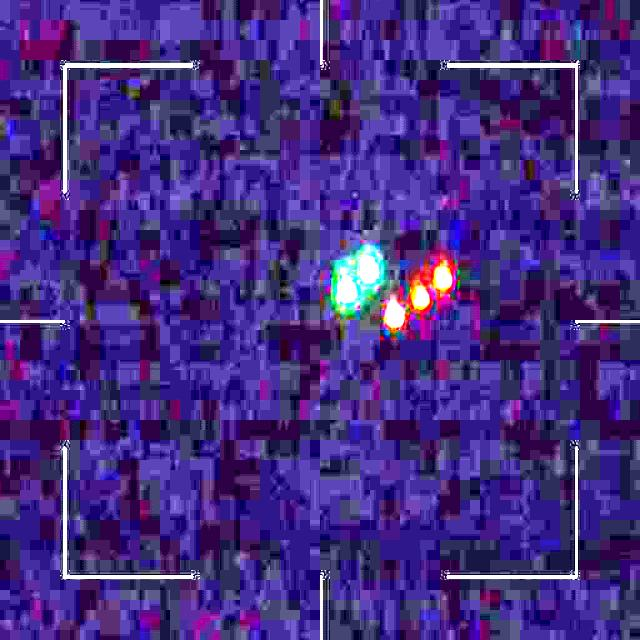bird: (336, 251, 451, 328)
